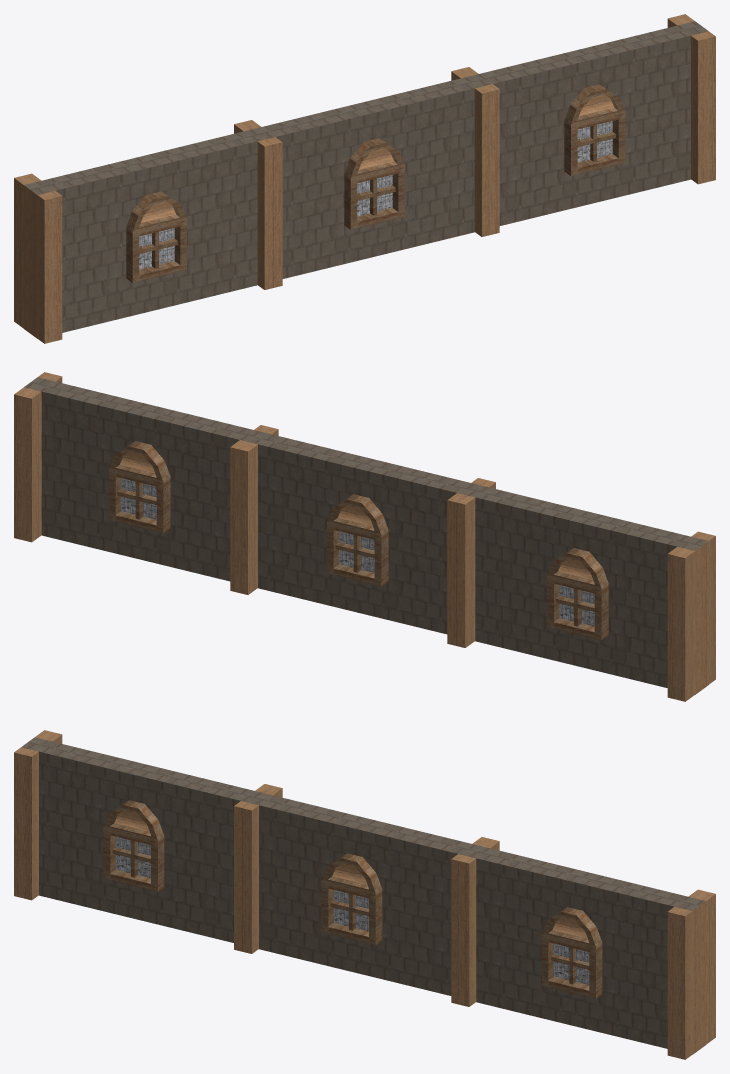
The model's file is Blacksmith_sidewall.fbx.
3 views of the same model, one above another, from view 1: azimuth 30°, elevation 25°; view 2: azimuth 150°, elevation 25°; view 3: azimuth 330°, elevation 25° (orthographic).
Parts seen in each view (by area): view 1: Blacksmith_sidewall; view 2: Blacksmith_sidewall; view 3: Blacksmith_sidewall.
Part boxes in pixels (x1,y1,x2,y2): Blacksmith_sidewall: [14, 14, 715, 343]; Blacksmith_sidewall: [14, 372, 715, 701]; Blacksmith_sidewall: [14, 730, 715, 1059].
Size of the model in its own units: 108 by 22.06 by 8.49.
